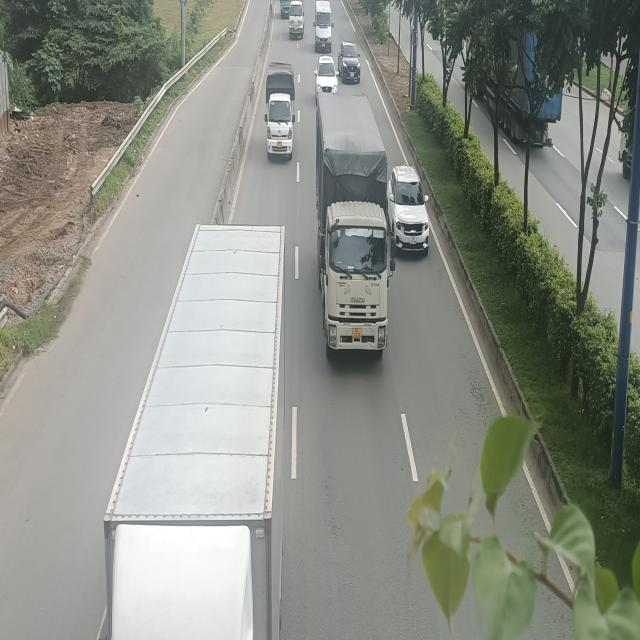car: (387, 164, 428, 259), (340, 42, 362, 85)
container: (312, 96, 392, 360)
truck: (83, 222, 285, 637), (265, 62, 297, 160)
van: (314, 1, 335, 54)
